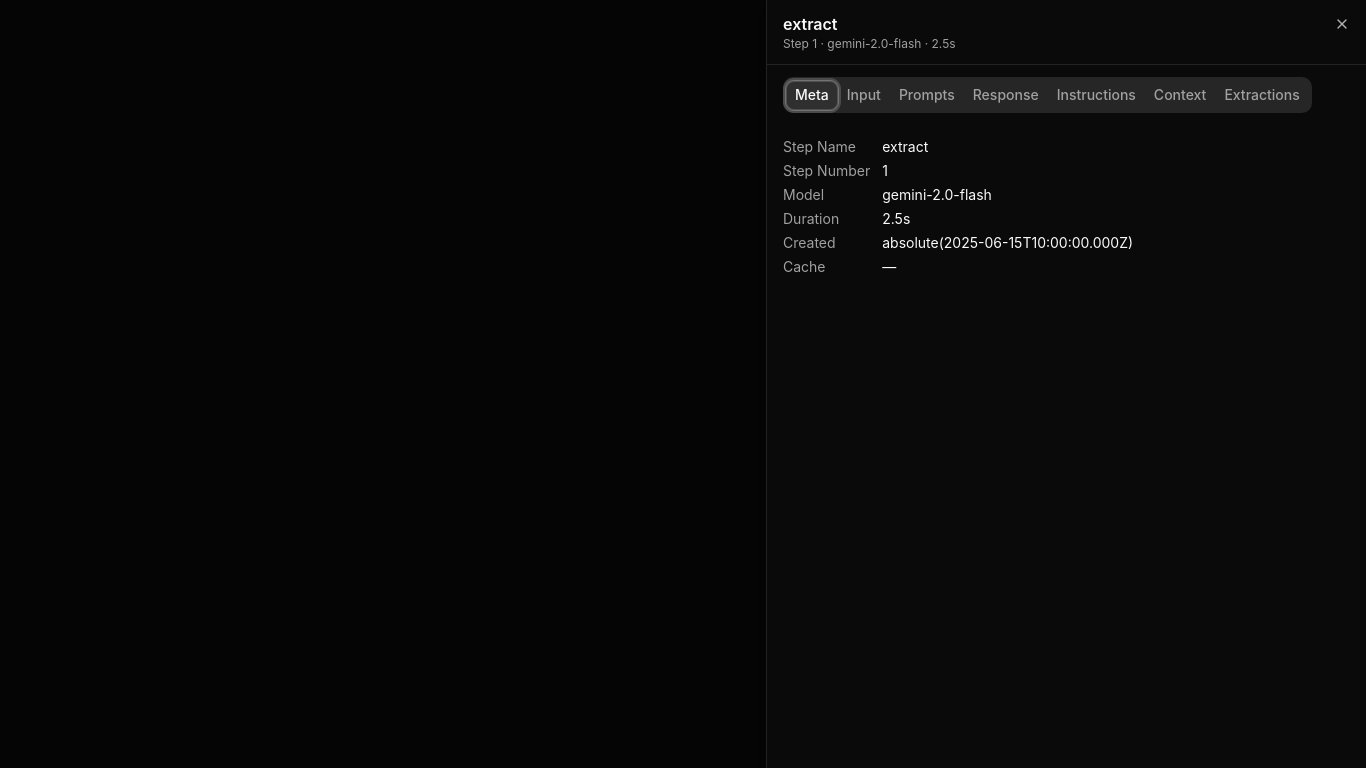
Test: StepDetailPanel › InstructionsTab shows empty state when no pipeline schema available
Click the tab "Instructions" at (1096, 95), box [1048, 80, 1145, 110]
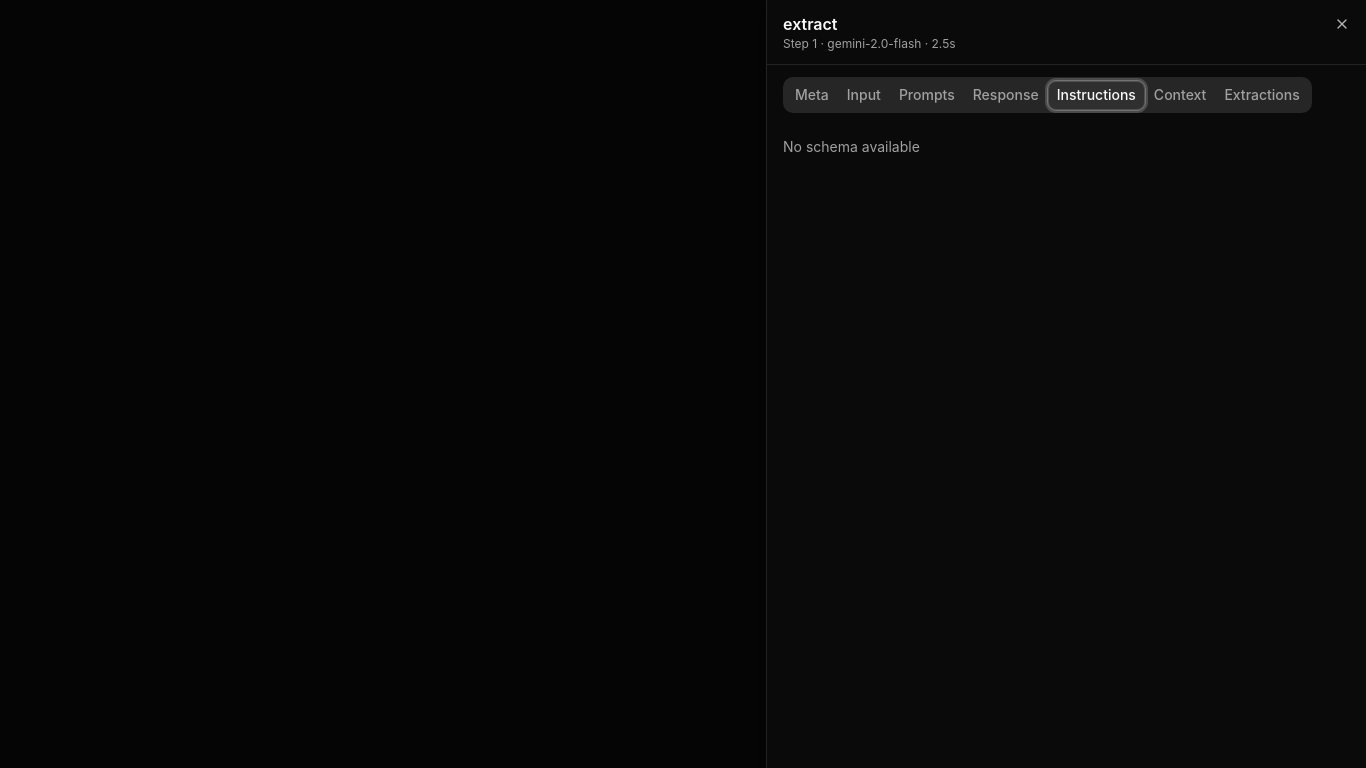
Check: the text "No schema available" is shown, box [783, 138, 920, 155]
